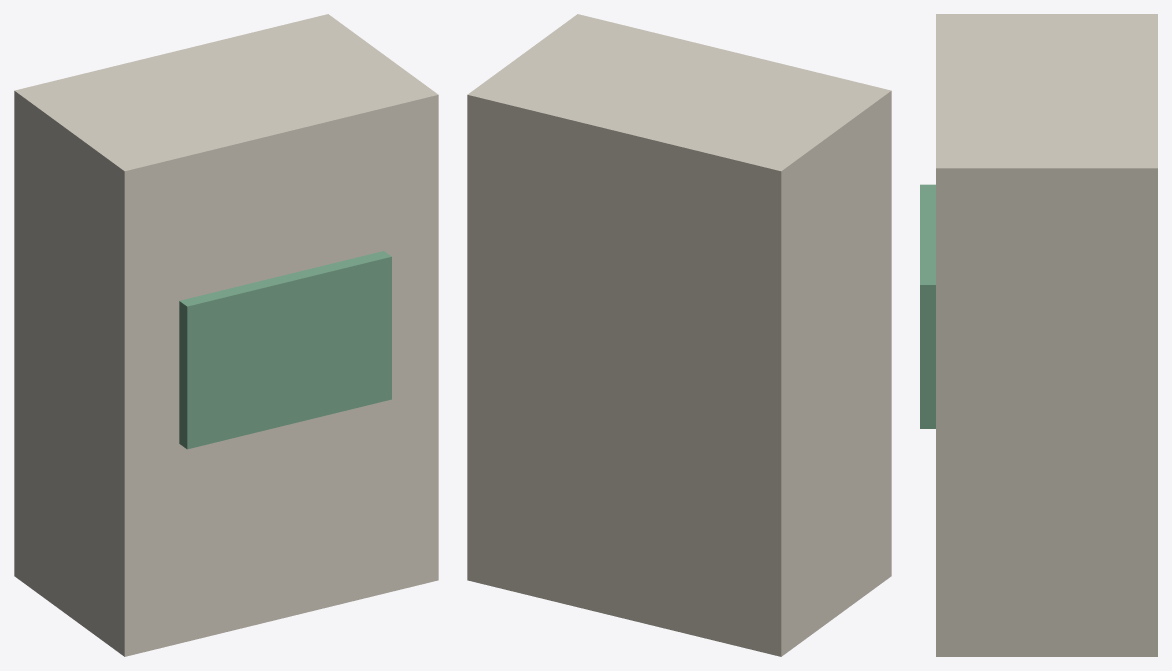
Rendered from shavings-bag.glb.
3 renders of one model, left to right at view 1: azimuth 30°, elevation 25°; view 2: azimuth 150°, elevation 25°; view 3: azimuth 270°, elevation 25°, orthographic.
Visible parts, largest first — view 1: shavings-bag; view 2: shavings-bag; view 3: shavings-bag.
Part boxes in pixels (left/top/right/bottom): shavings-bag: left=14, top=14, right=438, bottom=656; shavings-bag: left=467, top=14, right=891, bottom=656; shavings-bag: left=920, top=14, right=1157, bottom=656.
Bounding box in the file's own units: 0.46 × 0.68 × 0.3.
